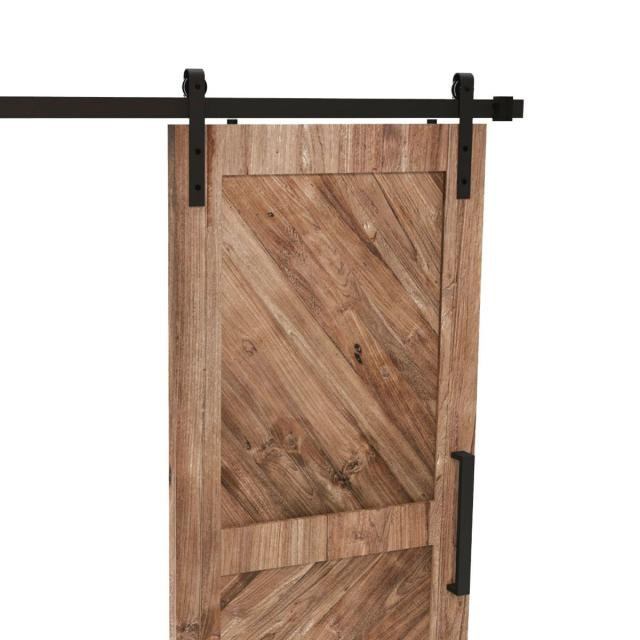door: (167, 119, 487, 639)
